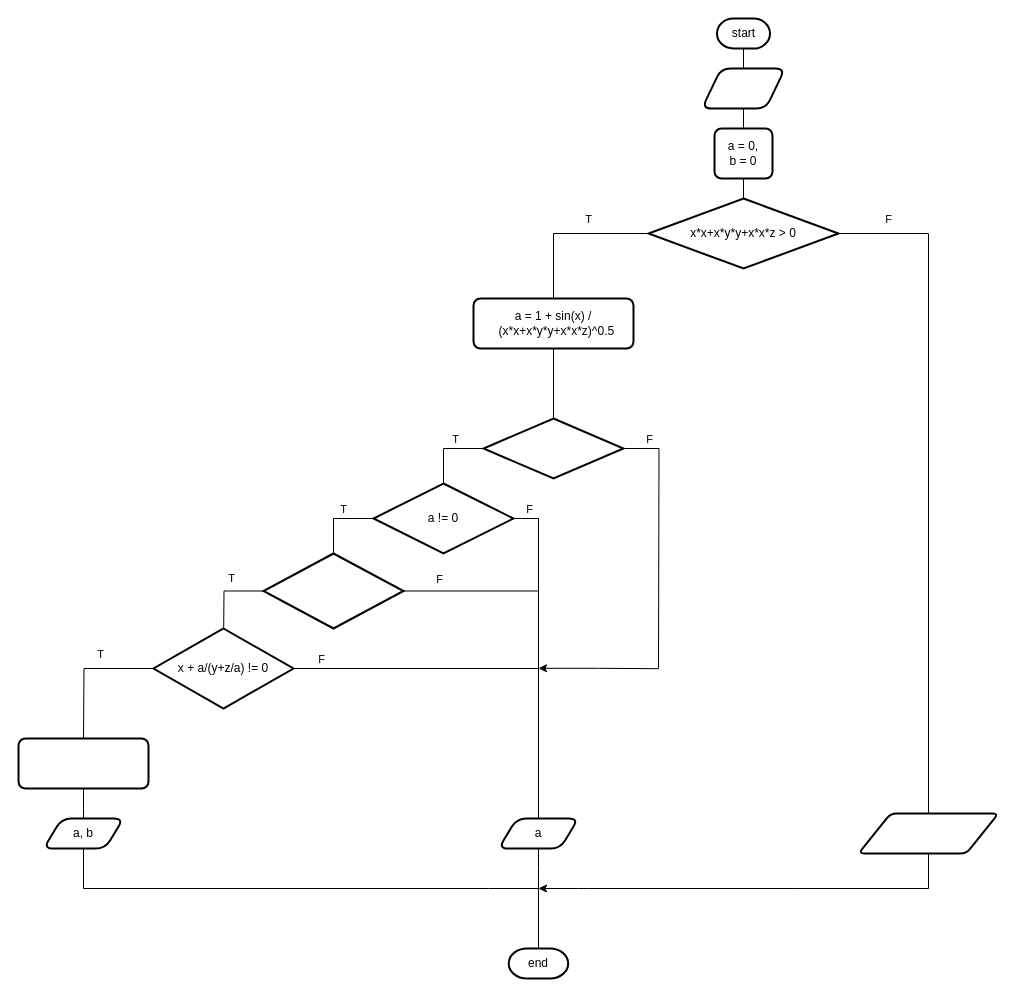
Some shapes in this 1016 by 996 pixel diagram are drawn without their labels. Here are the shapes that lost their labels. From the top down, the centre of each, then its label:
pixel 743 88: x,y,z є R
pixel 553 448: a*a*a+x*x > 0
pixel 333 590: y + z/a != 0
pixel 83 763: b = ln(a*a*a+x*x) / x + a/(y+z/a)
pixel 928 833: Не відповідає ОДЗ
